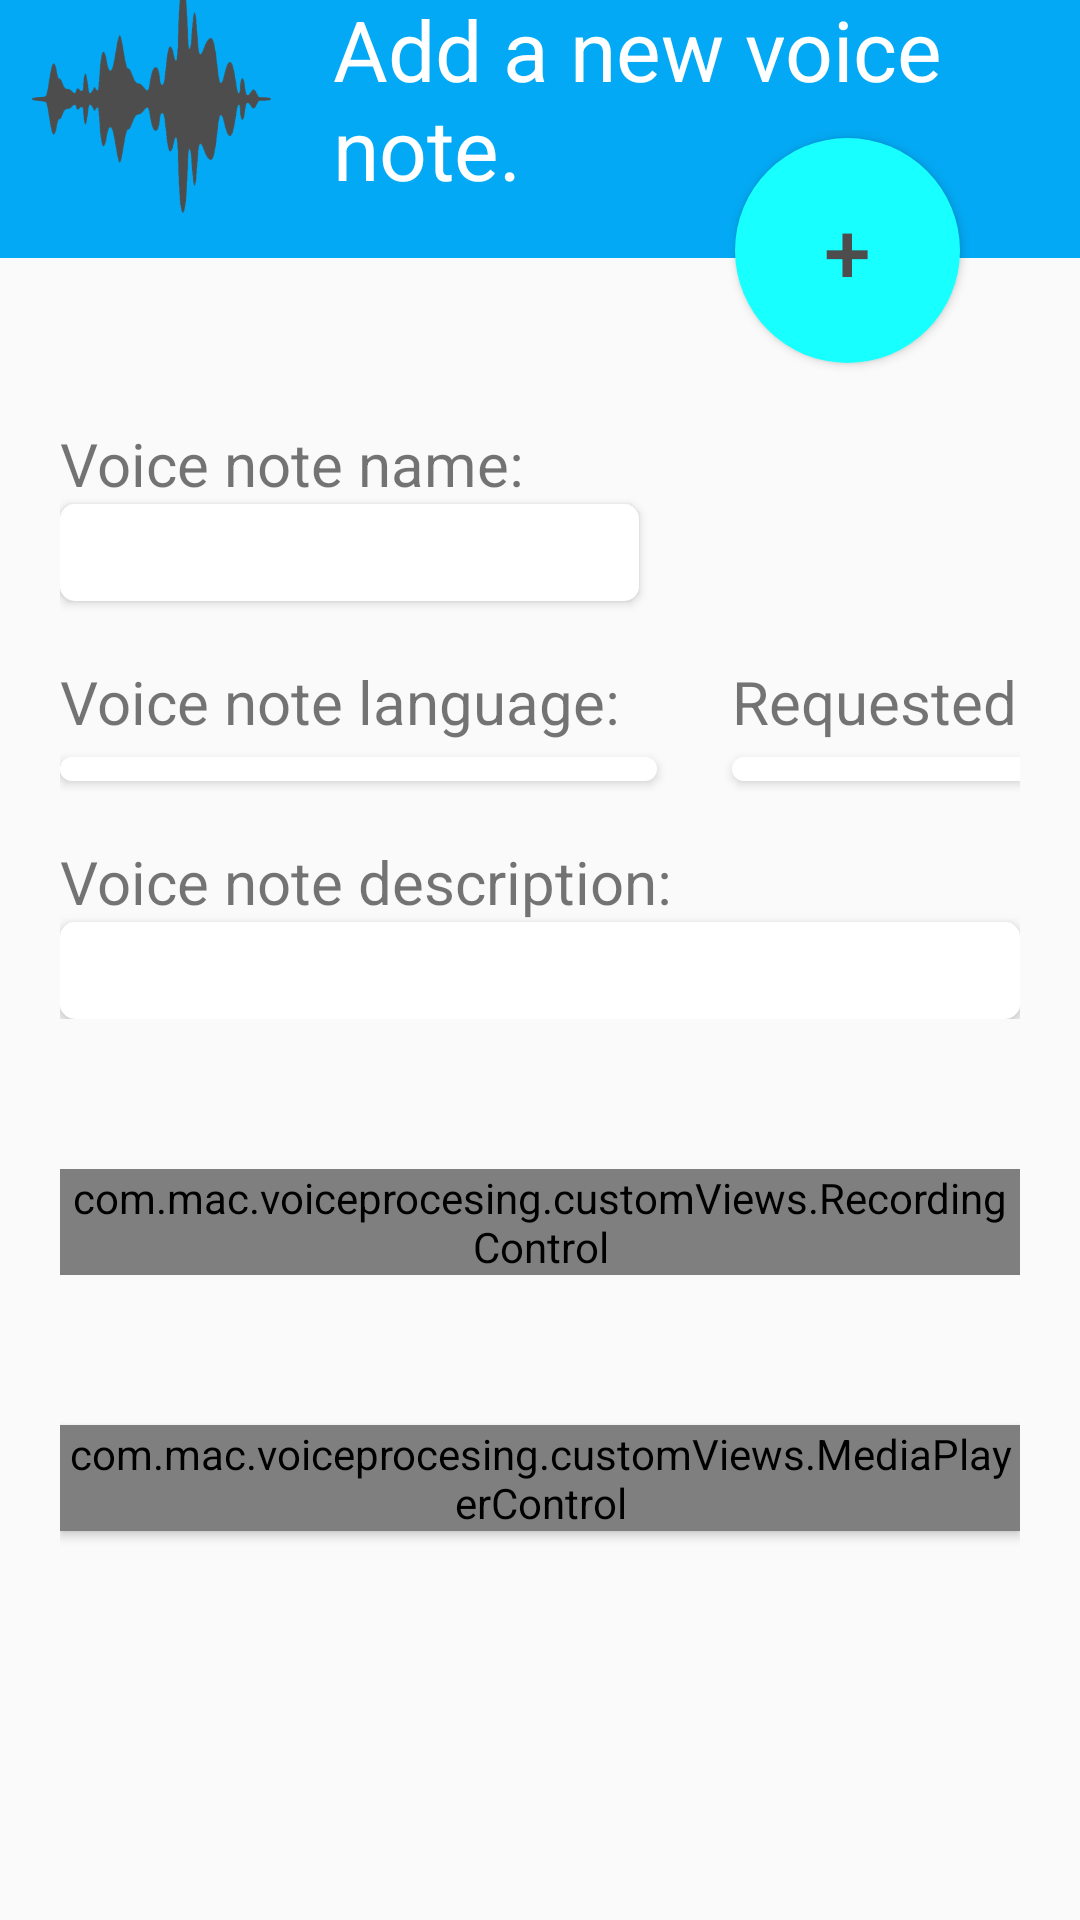

Icons on this 1080x1920 Android screen, each with its box as (x1, y1, x2, y2):
audio wave: (32, 0, 271, 213)
